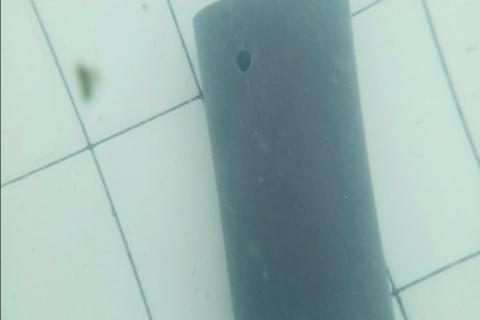kebocoran: (234, 46, 254, 75)
